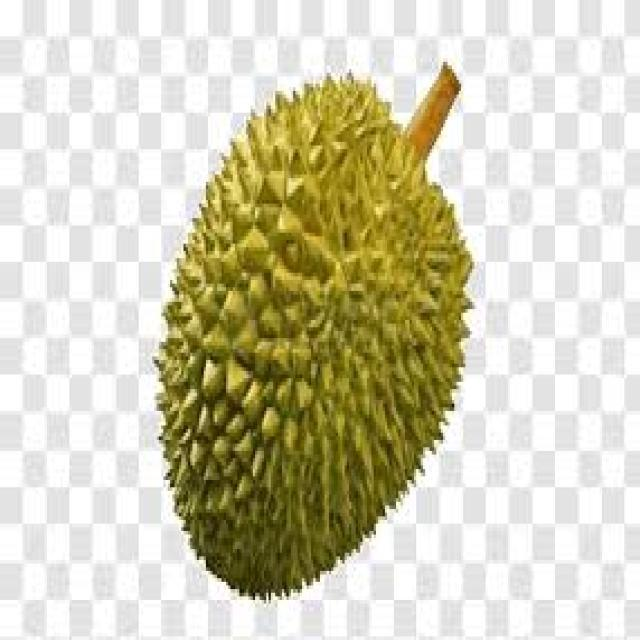immature: (151, 70, 475, 602)
